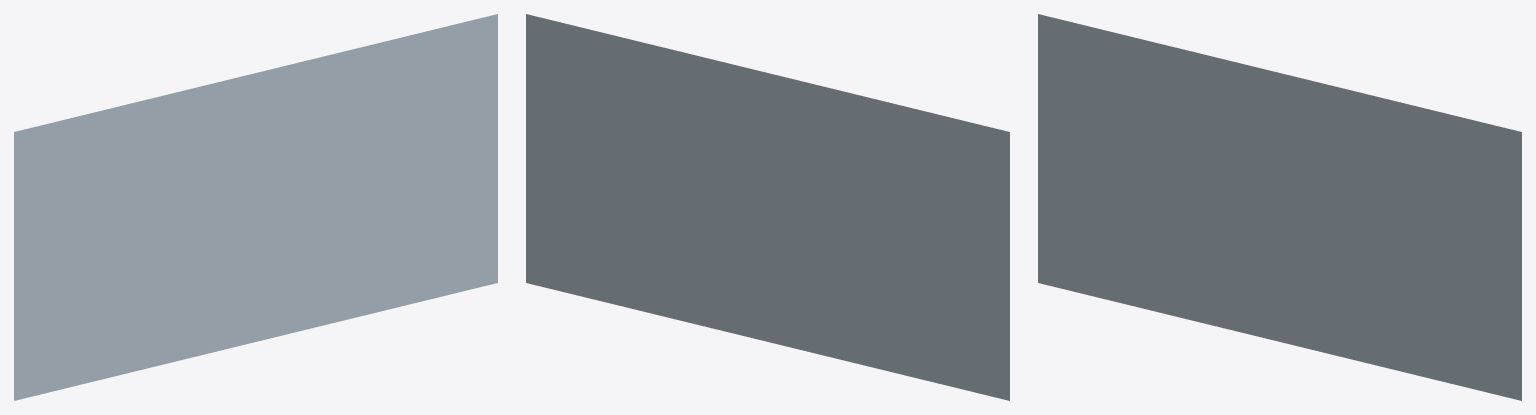
The model's file is Keqing_StarwardSword_Full_OneCommittedSlash1.fbx.
3 views of the same model, side by side, from view 1: azimuth 30°, elevation 25°; view 2: azimuth 150°, elevation 25°; view 3: azimuth 330°, elevation 25° (orthographic).
Parts seen in each view (by area): view 1: PART_OneGroupElectroSweepBody_1, PART_OnePurpleBladeWake_1, PART_OneSharpWhiteBlade_1; view 2: PART_OneGroupElectroSweepBody_1, PART_OnePurpleBladeWake_1, PART_OneSharpWhiteBlade_1; view 3: PART_OneGroupElectroSweepBody_1, PART_OnePurpleBladeWake_1, PART_OneSharpWhiteBlade_1.
Boxes of the visible parts, x1,y1,x2,y2 form: PART_OneGroupElectroSweepBody_1: [14, 14, 497, 400]; PART_OnePurpleBladeWake_1: [14, 144, 497, 269]; PART_OneSharpWhiteBlade_1: [15, 147, 497, 266]; PART_OneGroupElectroSweepBody_1: [526, 14, 1009, 400]; PART_OnePurpleBladeWake_1: [526, 144, 1009, 269]; PART_OneSharpWhiteBlade_1: [526, 149, 1009, 267]; PART_OneGroupElectroSweepBody_1: [1038, 14, 1521, 400]; PART_OnePurpleBladeWake_1: [1038, 144, 1521, 268]; PART_OneSharpWhiteBlade_1: [1038, 148, 1518, 265].
Bounding box in the file's own units: 849 × 451 × 7.35e-05.
